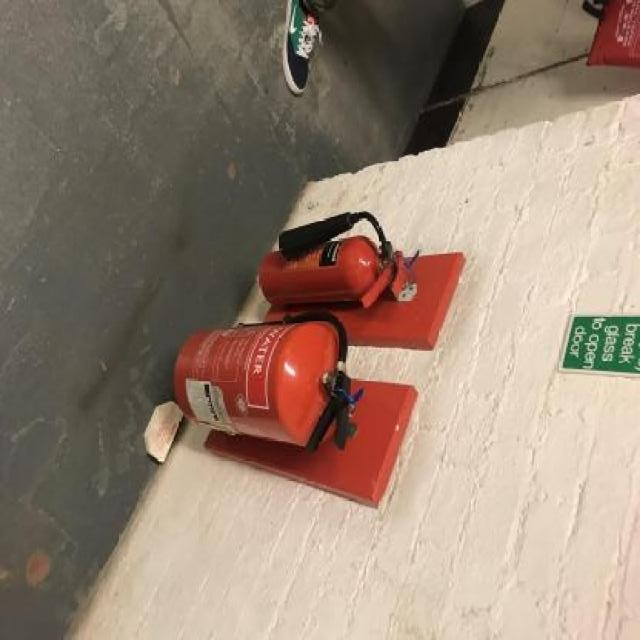fire extinguisher: (172, 312, 351, 453), (259, 210, 409, 308)
